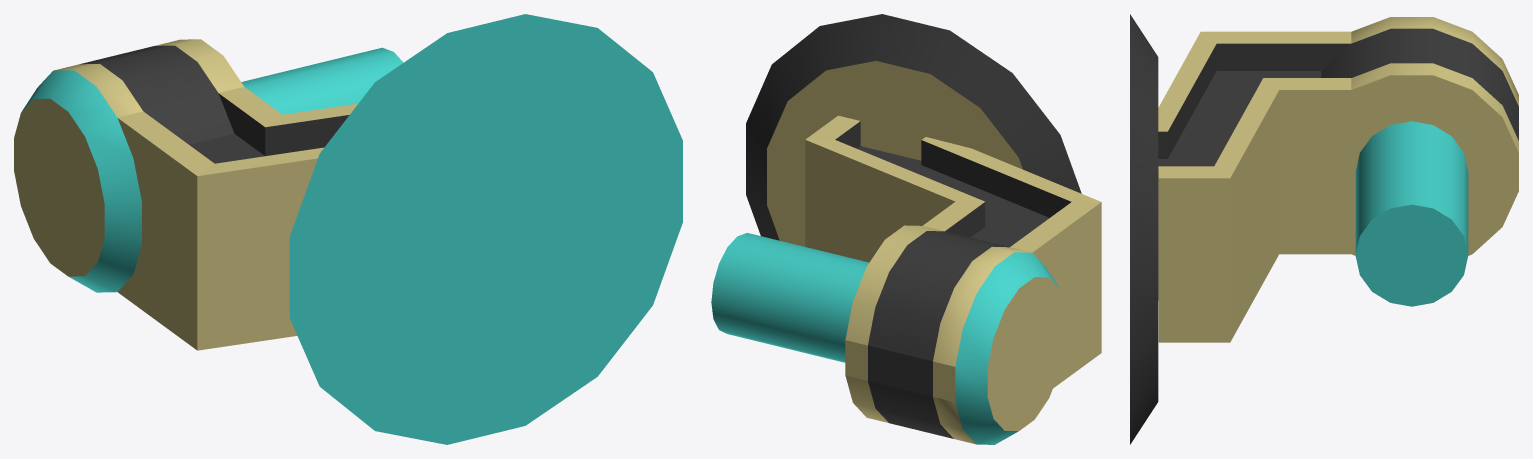
Rendered from Wheel1-arm.fbx.
The picture shows the model from 3 angles, left to right: view 1: azimuth 30°, elevation 25°; view 2: azimuth 150°, elevation 25°; view 3: azimuth 270°, elevation 25°; orthographic projection. The views are drawn at different scales.
Visible parts, largest first — view 1: Cube; view 2: Cube; view 3: Cube.
Boxes of the visible parts, bbox=[...] form: Cube: bbox=[14, 14, 682, 444]; Cube: bbox=[711, 14, 1101, 444]; Cube: bbox=[1130, 14, 1518, 444].
Size of the model in its own units: 1.83 by 1.52 by 1.38.
